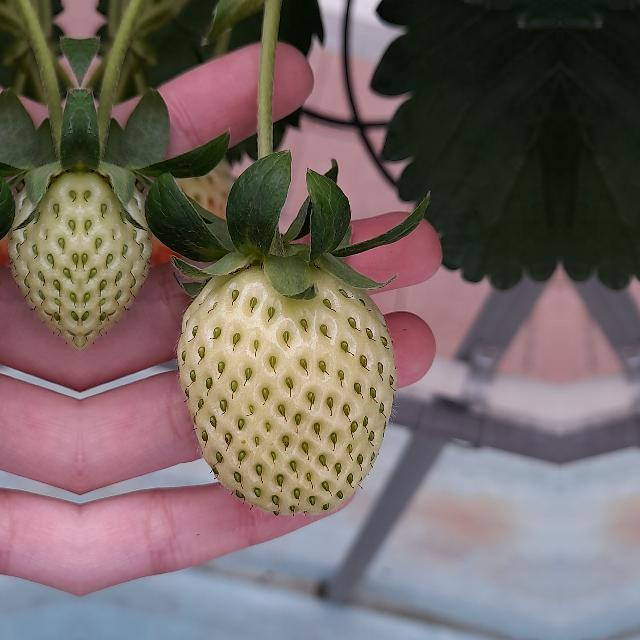Health_25: (177, 265, 396, 515), (1, 154, 80, 366), (80, 154, 158, 366)
